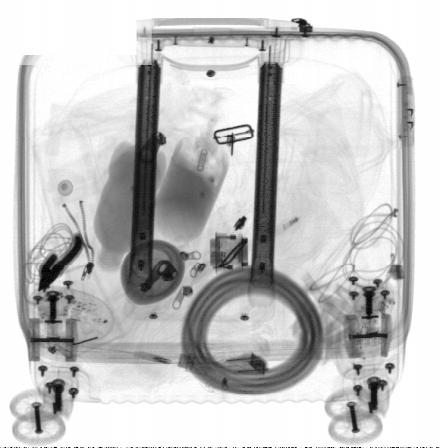Pliers: (37, 234, 81, 294)
